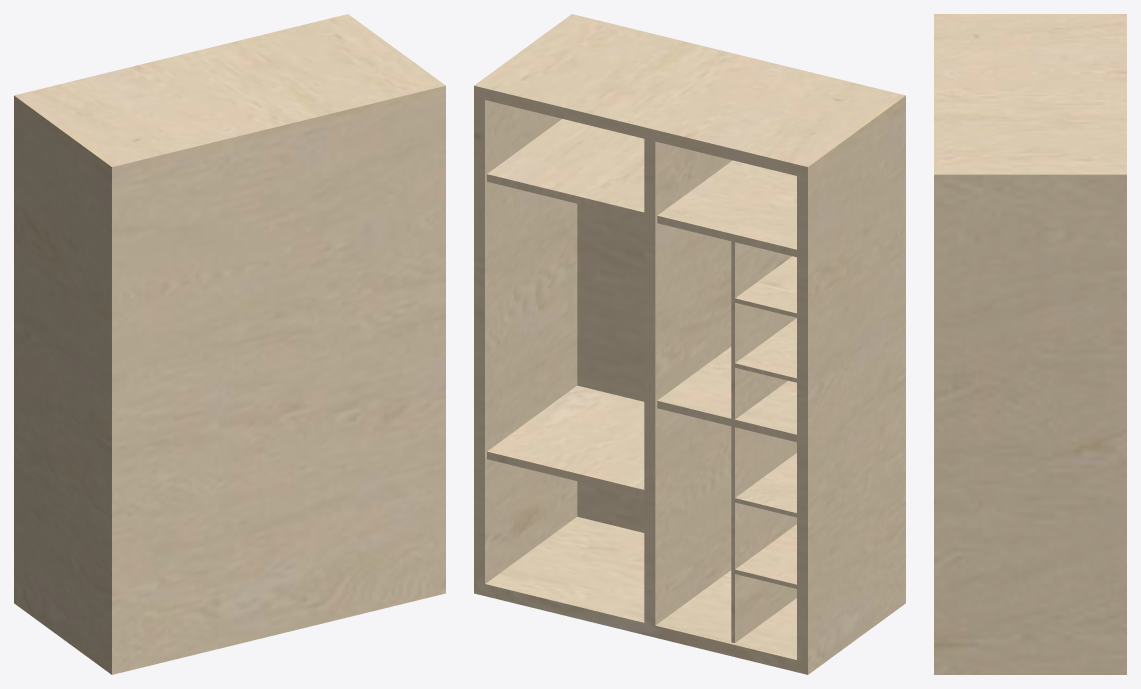
File: Closet01.glb
3 renders of one model, left to right at view 1: azimuth 30°, elevation 25°; view 2: azimuth 150°, elevation 25°; view 3: azimuth 270°, elevation 25°, orthographic.
Visible parts, largest first — view 1: Closet01_model; view 2: Closet01_model; view 3: Closet01_model.
Part boxes in pixels (left/top/right/bottom): Closet01_model: left=14, top=14, right=445, bottom=674; Closet01_model: left=474, top=14, right=905, bottom=674; Closet01_model: left=934, top=14, right=1126, bottom=674.
Size of the model in its own units: 3.85 by 5.6 by 1.96.
1 material, 1 textured.
